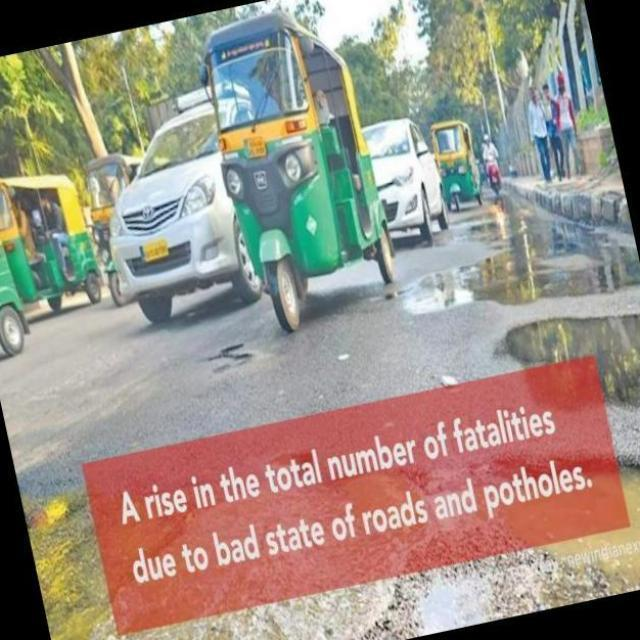Pathole: (491, 451, 640, 585), (30, 495, 80, 539), (213, 342, 251, 376)
